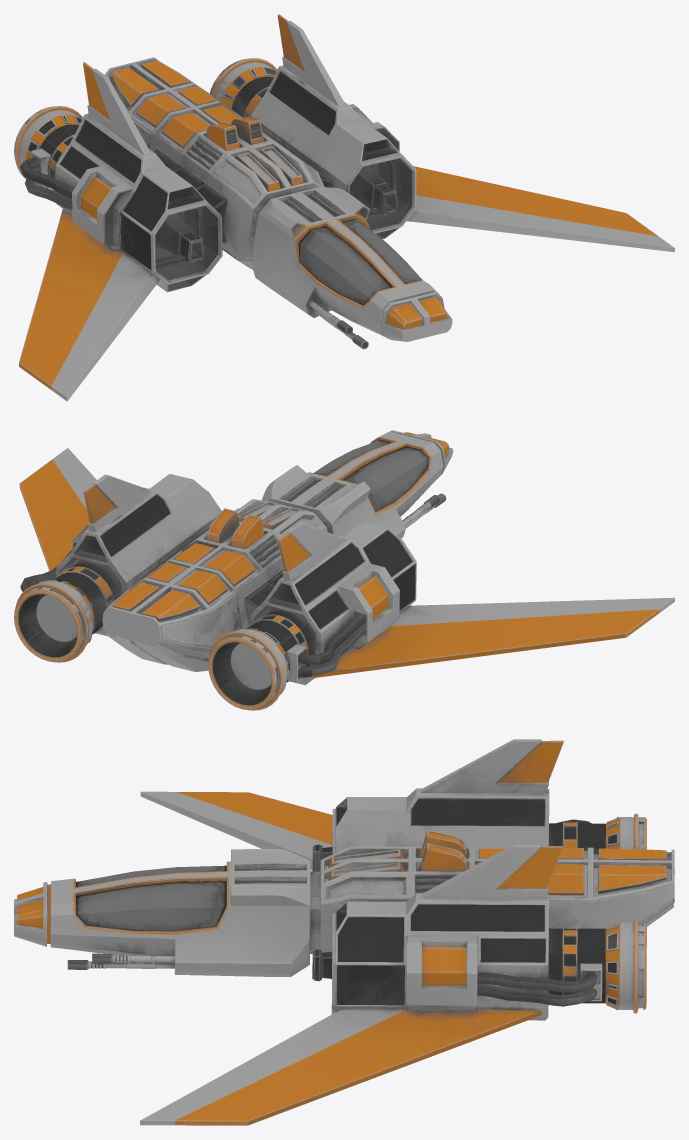
Rendered from spaceship.glb.
The picture shows the model from 3 angles, top to bottom: view 1: azimuth 30°, elevation 25°; view 2: azimuth 150°, elevation 25°; view 3: azimuth 270°, elevation 25°; orthographic projection. The views are drawn at different scales.
Parts seen in each view (by area): view 1: Starship_Material.003_0; view 2: Starship_Material.003_0; view 3: Starship_Material.003_0.
Part boxes in pixels (x1,y1,x2,y2): Starship_Material.003_0: (14,14,674,401); Starship_Material.003_0: (14,430,674,710); Starship_Material.003_0: (14,739,674,1125).
Size of the model in its own units: 25.92 by 6.51 by 21.89.
Materials: 1 (1 with a texture image).
